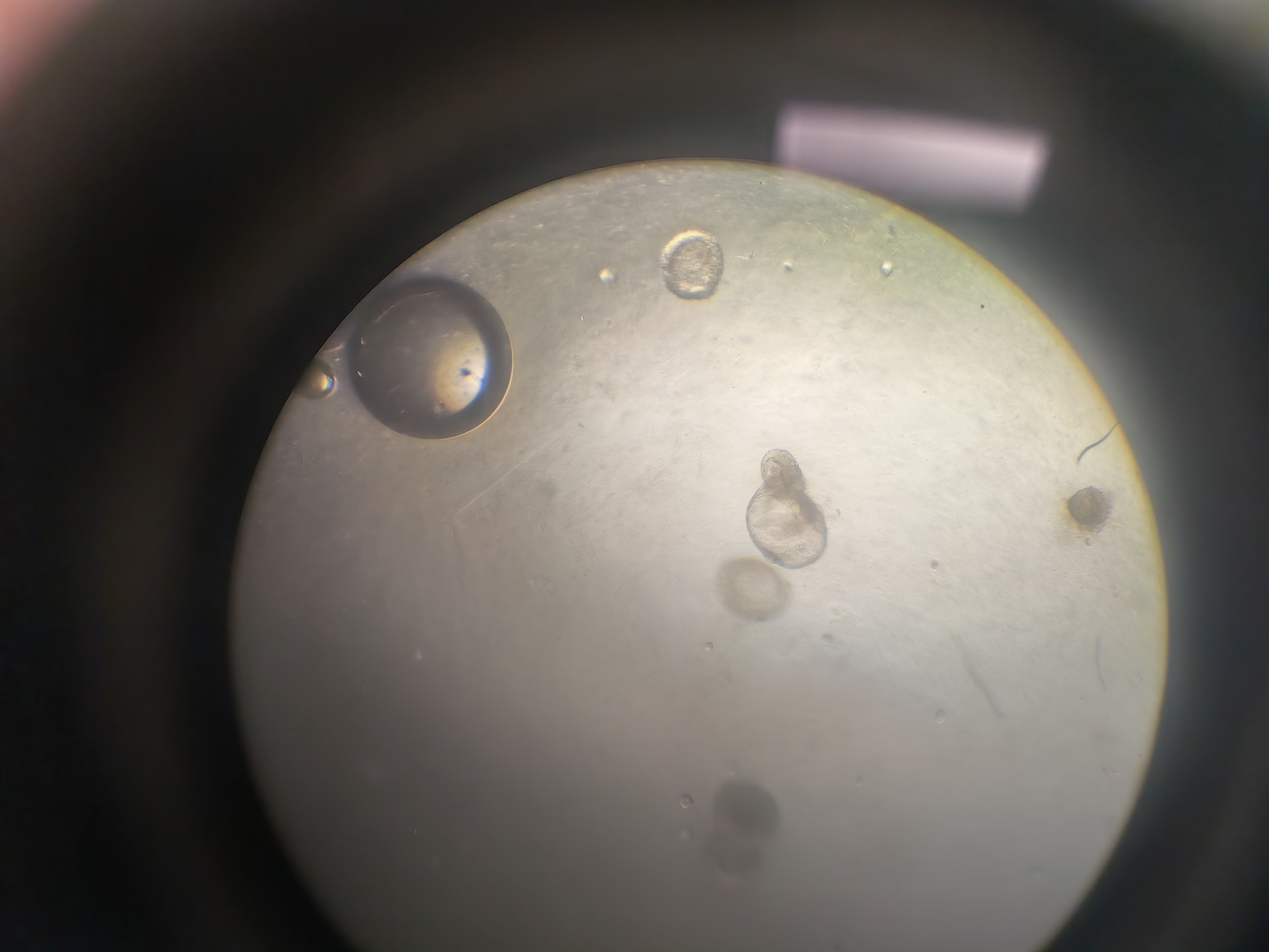organoid: (640, 267, 702, 328), (622, 326, 655, 359)
